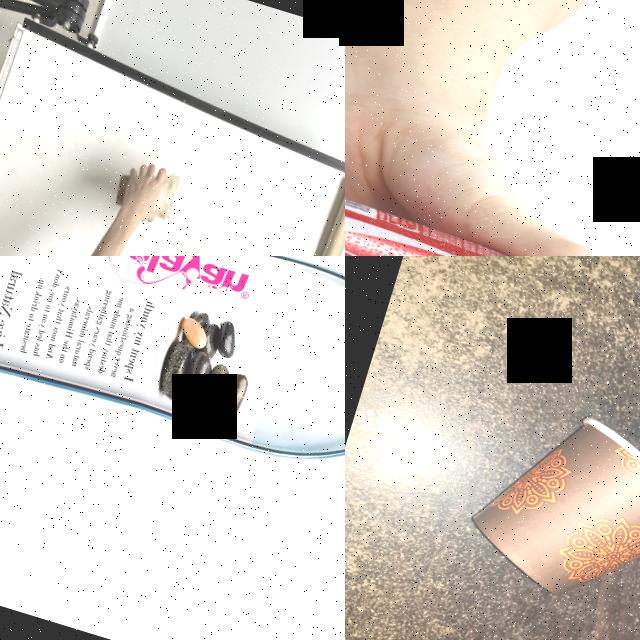bottle: (0, 256, 345, 519)
can: (345, 160, 640, 256)
cup: (451, 386, 640, 636), (108, 156, 185, 224)
